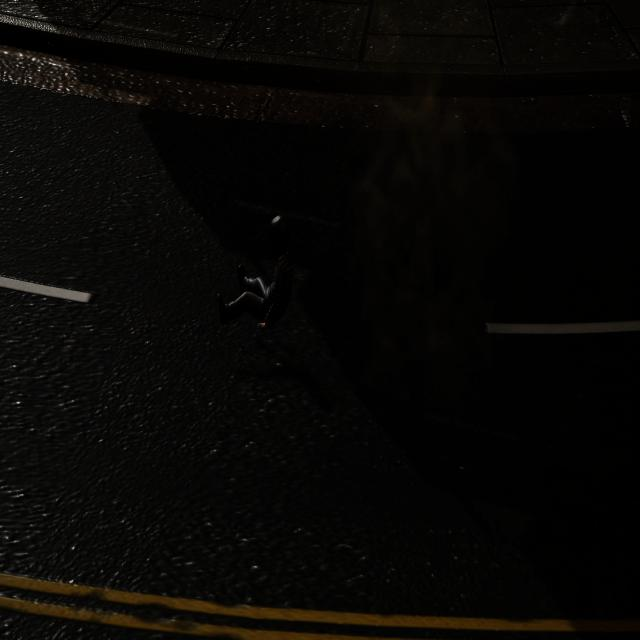Human: (215, 190, 294, 350)
